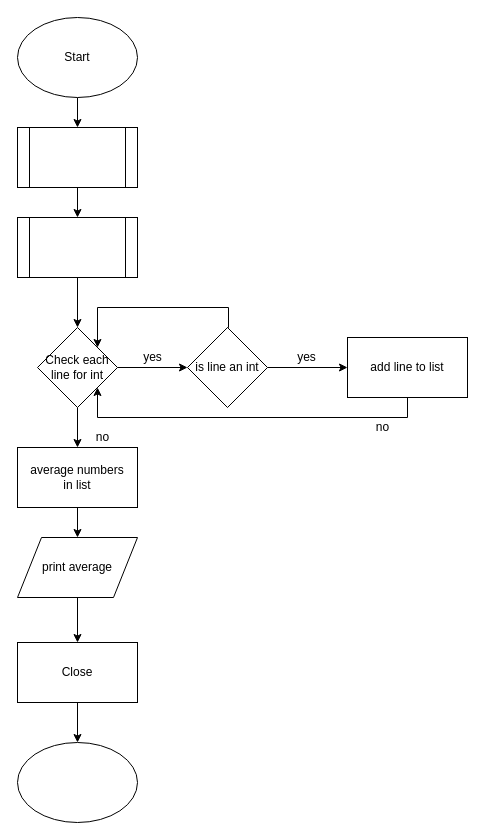
The diagram is 485 pixels wide and 840 high, and some of its shapes have lost their labels. The centre of each missing label's shape, as x and y in pixels:
checkFile: point (77, 247)
End: point (77, 782)
inputFile: point (77, 157)
